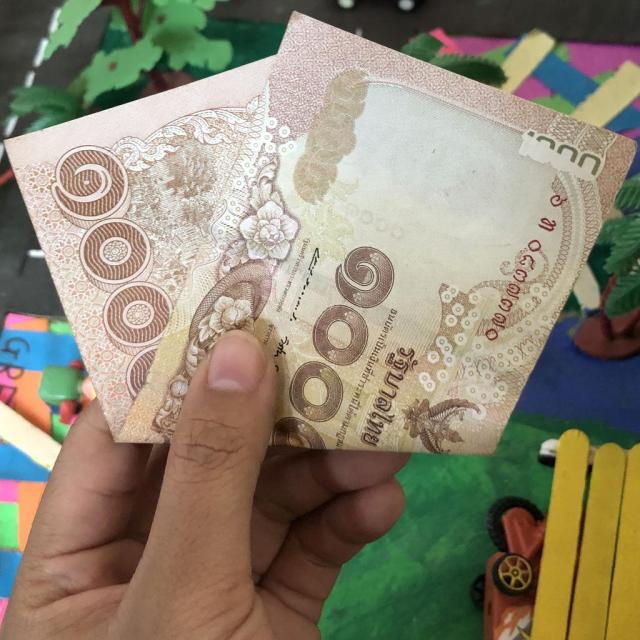THAI1000: (8, 13, 634, 454)
